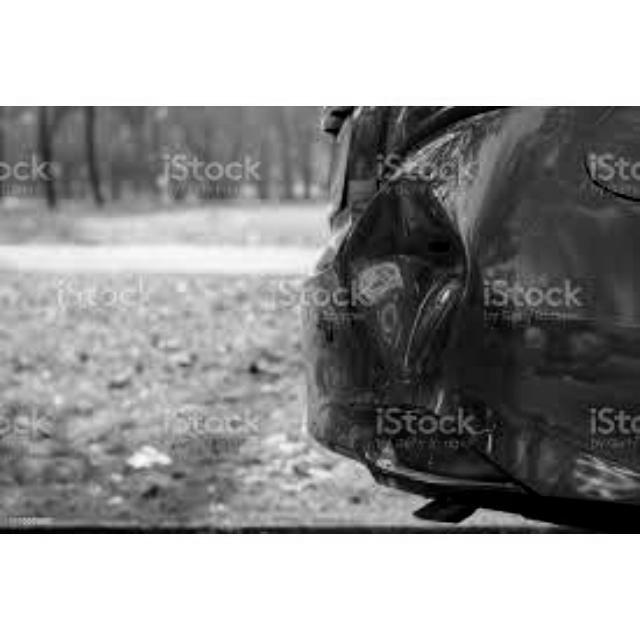rear-bumper-dent: (298, 172, 616, 518)
